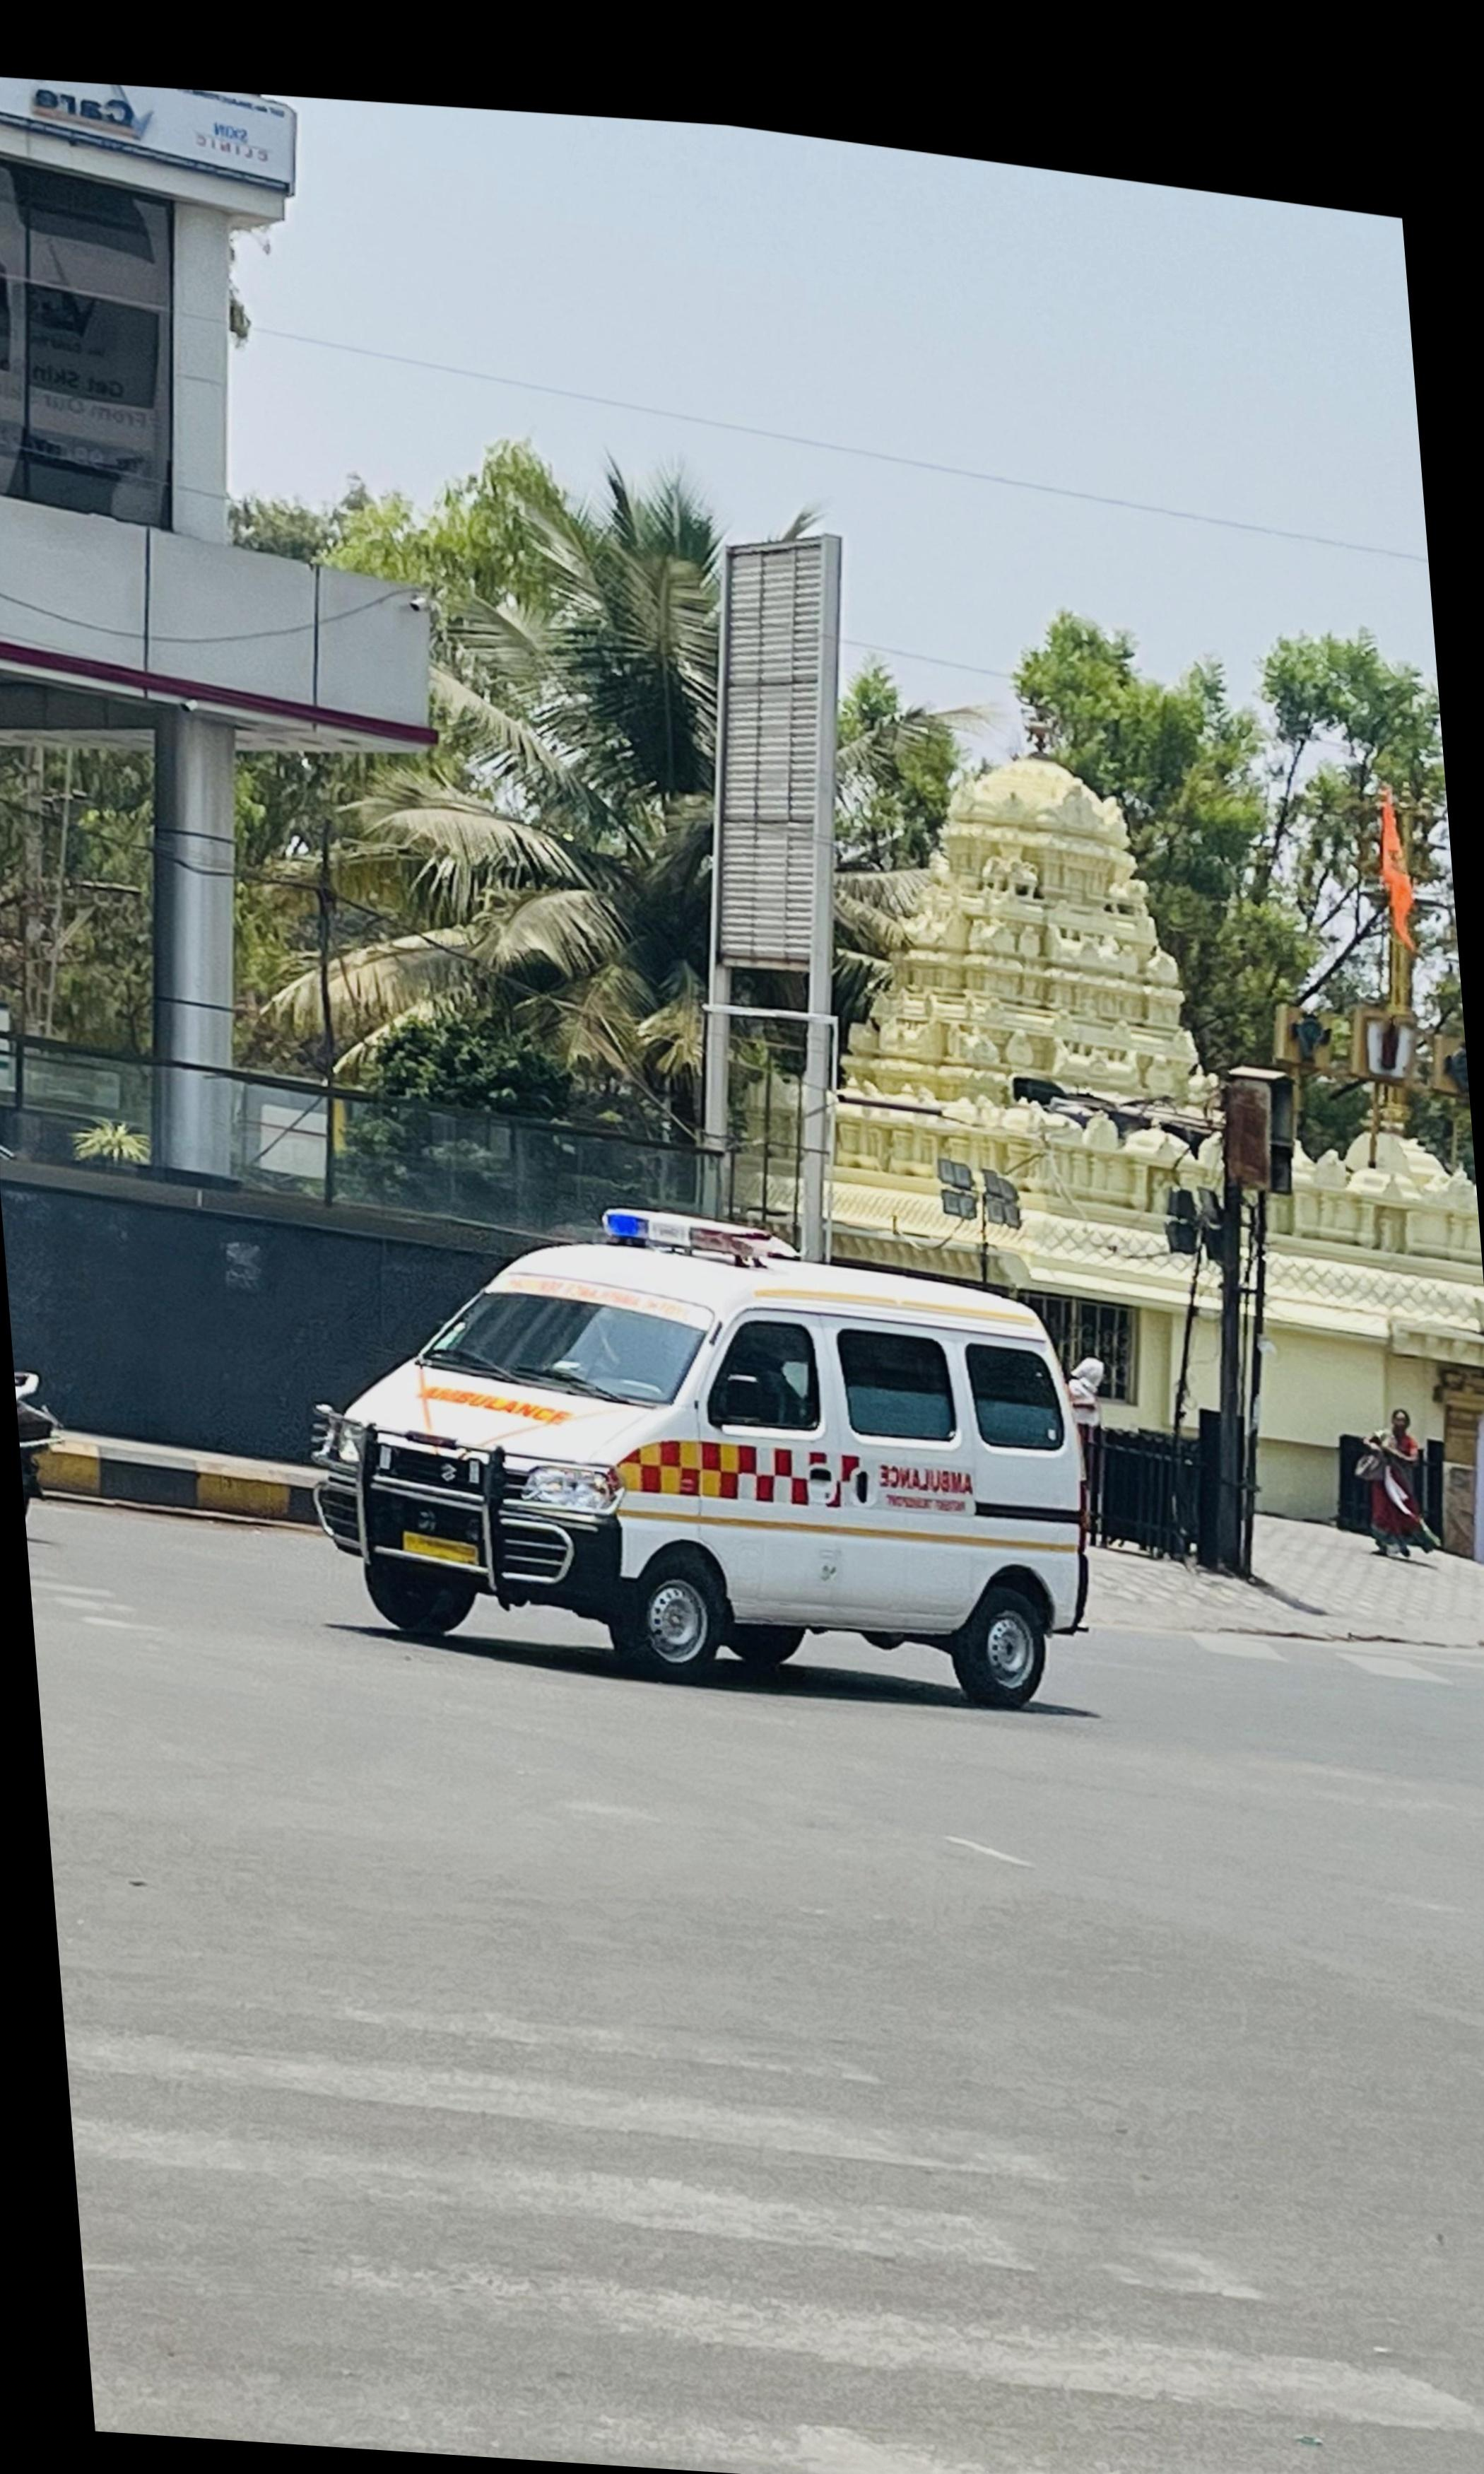ambulance: (309, 1223, 1101, 1712)
